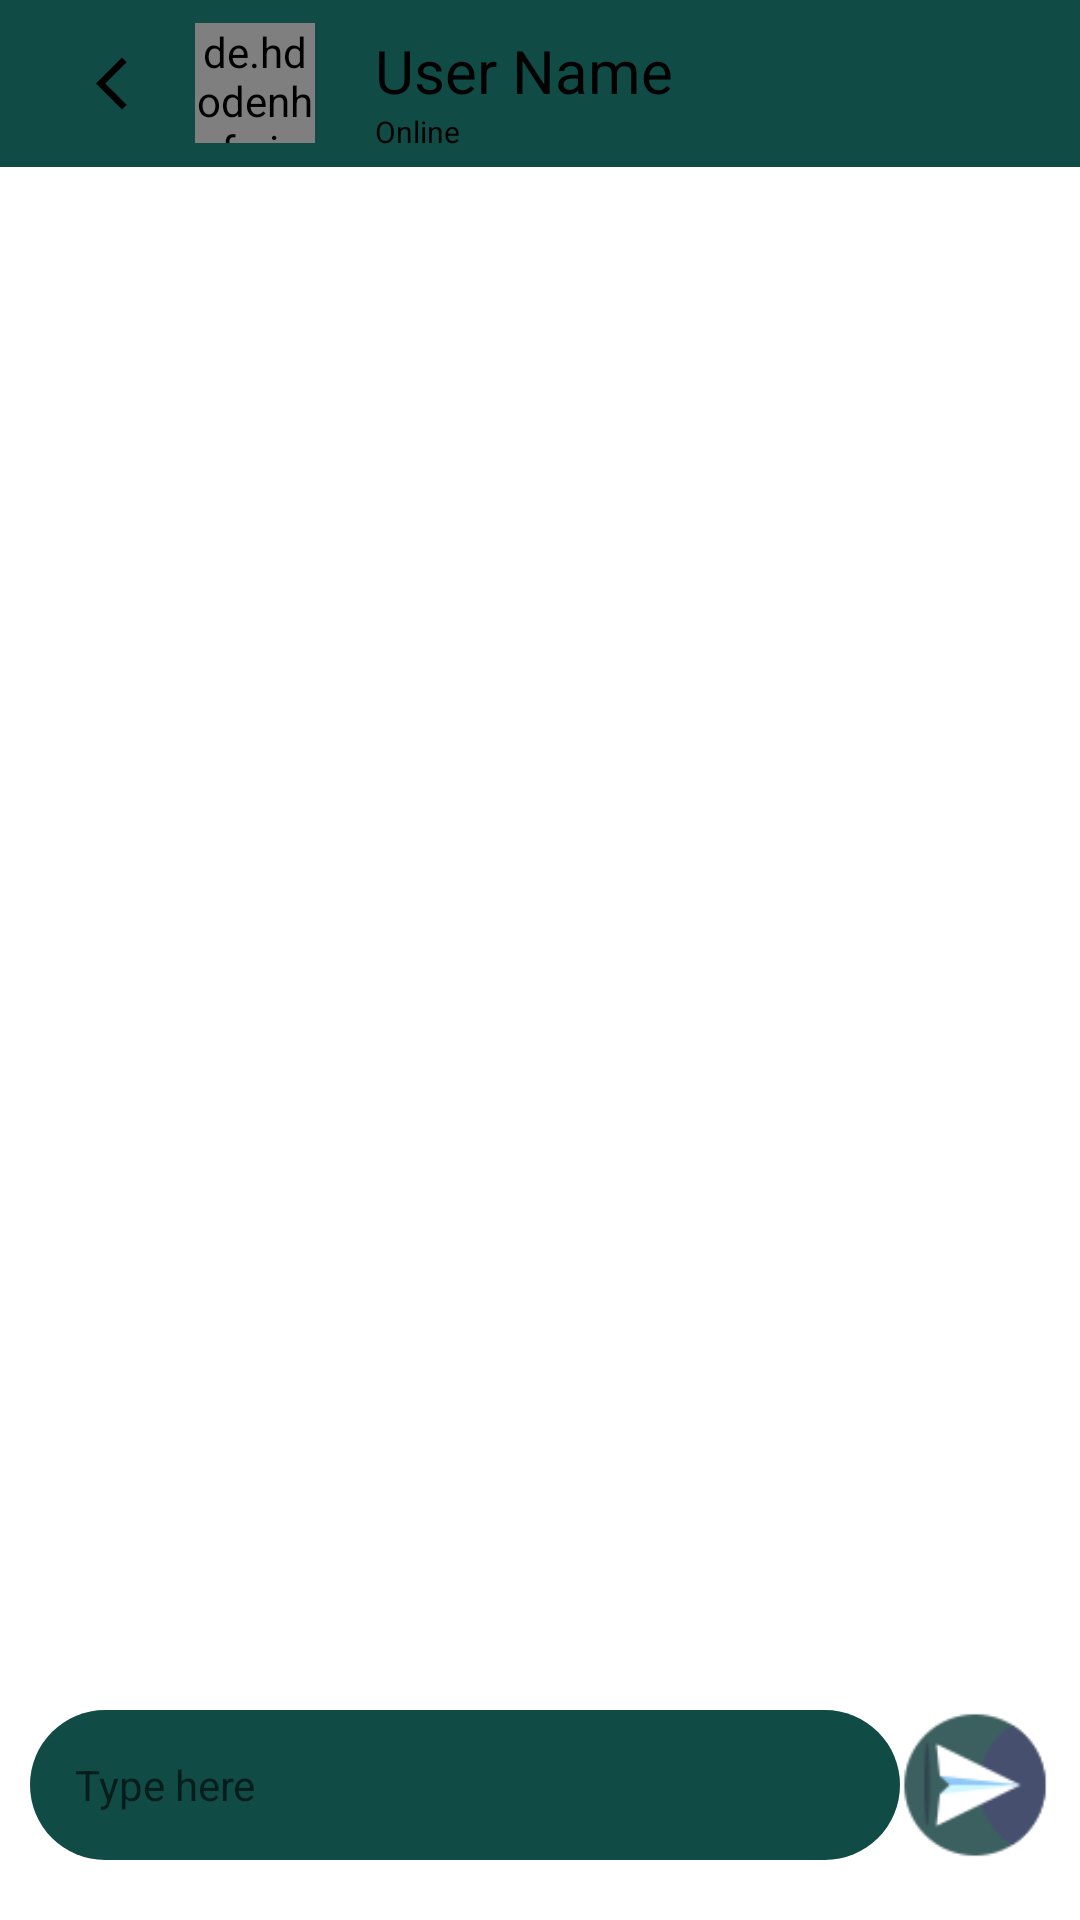

Icon bounding boxes for this 1080 × 1920 phone screenshot, format (x1, y1, x2, y2):
arrow back: (96, 58, 126, 109)
send: (904, 1714, 1046, 1856)
